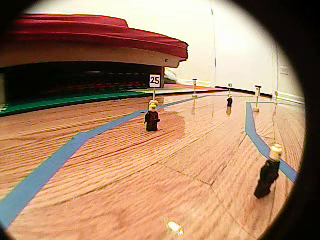Person: (255, 143, 284, 199), (145, 102, 162, 133), (225, 94, 235, 109)
Red Traffic Light: (254, 85, 261, 98)
Speed Limit 25: (149, 74, 161, 87)
